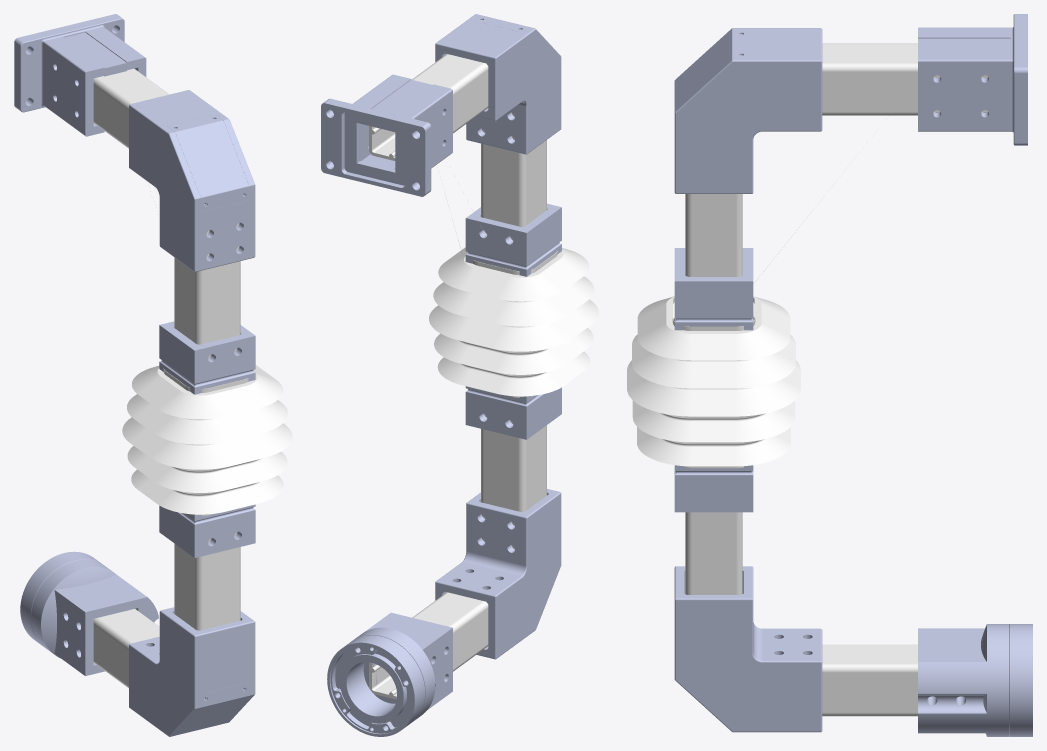
File: TDB79-LC-AEG01-6060-9-LA100-LB100-LC100-LD100.glb
The picture shows the model from 3 angles, left to right: view 1: azimuth 30°, elevation 25°; view 2: azimuth 150°, elevation 25°; view 3: azimuth 270°, elevation 25°; orthographic projection. The views are drawn at different scales.
Parts seen in each view (by area): view 1: NAUO11, NAUO3, NAUO7, NAUO1, NAUO9, NAUO4, NAUO6, NAUO10, NAUO12, NAUO2, NAUO8; view 2: NAUO11, NAUO7, NAUO1, NAUO3, NAUO9, NAUO6, NAUO4, NAUO10, NAUO2, NAUO8, NAUO12; view 3: NAUO11, NAUO3, NAUO7, NAUO9, NAUO1, NAUO2, NAUO8, NAUO6, NAUO4, NAUO10, NAUO12.
Boxes of the visible parts, x1,y1,x2,y2 form: NAUO11: [122, 187, 292, 516]; NAUO3: [129, 90, 255, 271]; NAUO7: [129, 607, 255, 736]; NAUO1: [14, 14, 146, 136]; NAUO9: [20, 551, 158, 675]; NAUO4: [174, 223, 240, 358]; NAUO6: [174, 532, 240, 630]; NAUO10: [159, 321, 255, 394]; NAUO12: [159, 504, 255, 557]; NAUO2: [93, 68, 169, 148]; NAUO8: [93, 609, 159, 688]; NAUO11: [429, 167, 598, 397]; NAUO7: [435, 489, 561, 659]; NAUO1: [321, 74, 452, 196]; NAUO3: [435, 14, 561, 154]; NAUO9: [327, 612, 452, 736]; NAUO6: [481, 414, 546, 549]; NAUO4: [481, 113, 546, 240]; NAUO10: [465, 203, 561, 276]; NAUO2: [369, 54, 488, 160]; NAUO8: [369, 592, 488, 699]; NAUO12: [465, 386, 561, 439]; NAUO11: [627, 184, 833, 468]; NAUO3: [674, 28, 822, 193]; NAUO7: [674, 566, 822, 732]; NAUO9: [918, 624, 1032, 736]; NAUO1: [918, 14, 1027, 145]; NAUO2: [822, 43, 987, 115]; NAUO8: [822, 644, 962, 716]; NAUO6: [685, 512, 742, 594]; NAUO4: [685, 194, 742, 276]; NAUO10: [674, 248, 753, 330]; NAUO12: [674, 465, 753, 512].
Bounding box in the file's own units: 0.1816 × 0.796 × 0.4238.
